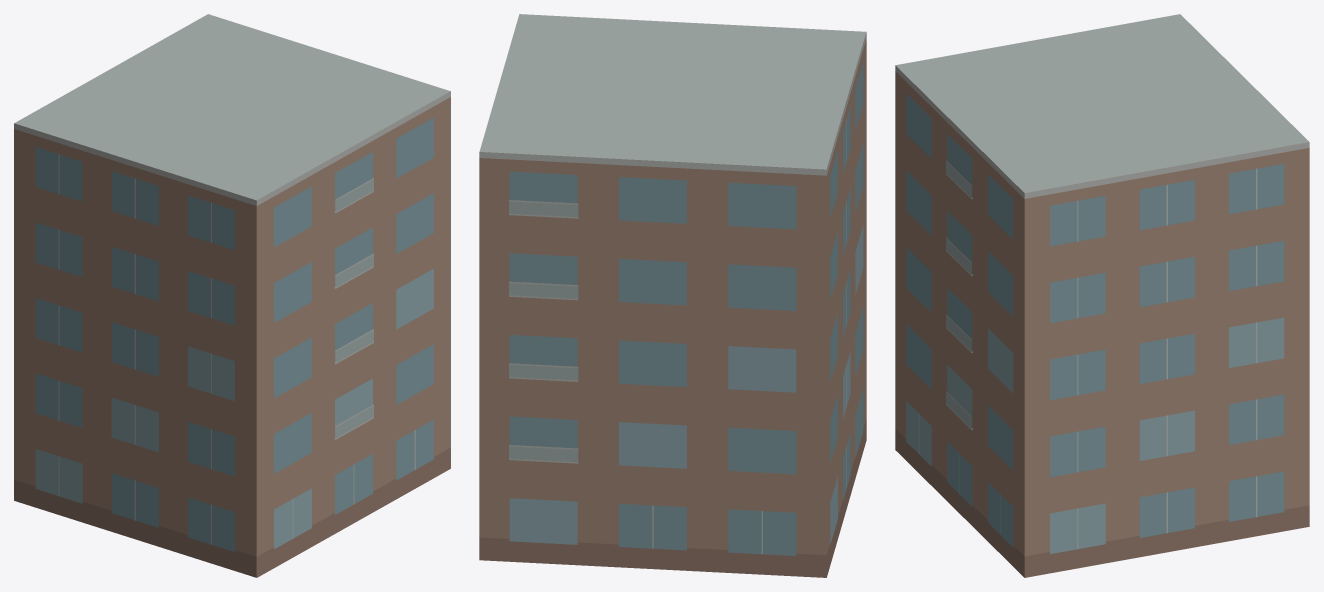
Rendered from survey-upis-33031010.glb.
The picture shows the model from 3 angles, left to right: view 1: azimuth 30°, elevation 25°; view 2: azimuth 150°, elevation 25°; view 3: azimuth 270°, elevation 25°; orthographic projection. The views are drawn at different scales.
Parts seen in each view (by area): view 1: survey-upis-33031010.tmp; view 2: survey-upis-33031010.tmp; view 3: survey-upis-33031010.tmp.
Part boxes in pixels (x1,y1,x2,y2): survey-upis-33031010.tmp: (14,14,450,577); survey-upis-33031010.tmp: (479,14,866,577); survey-upis-33031010.tmp: (895,14,1309,577).
Bounding box in the file's own units: 16.4 × 16.4 × 16.02.
